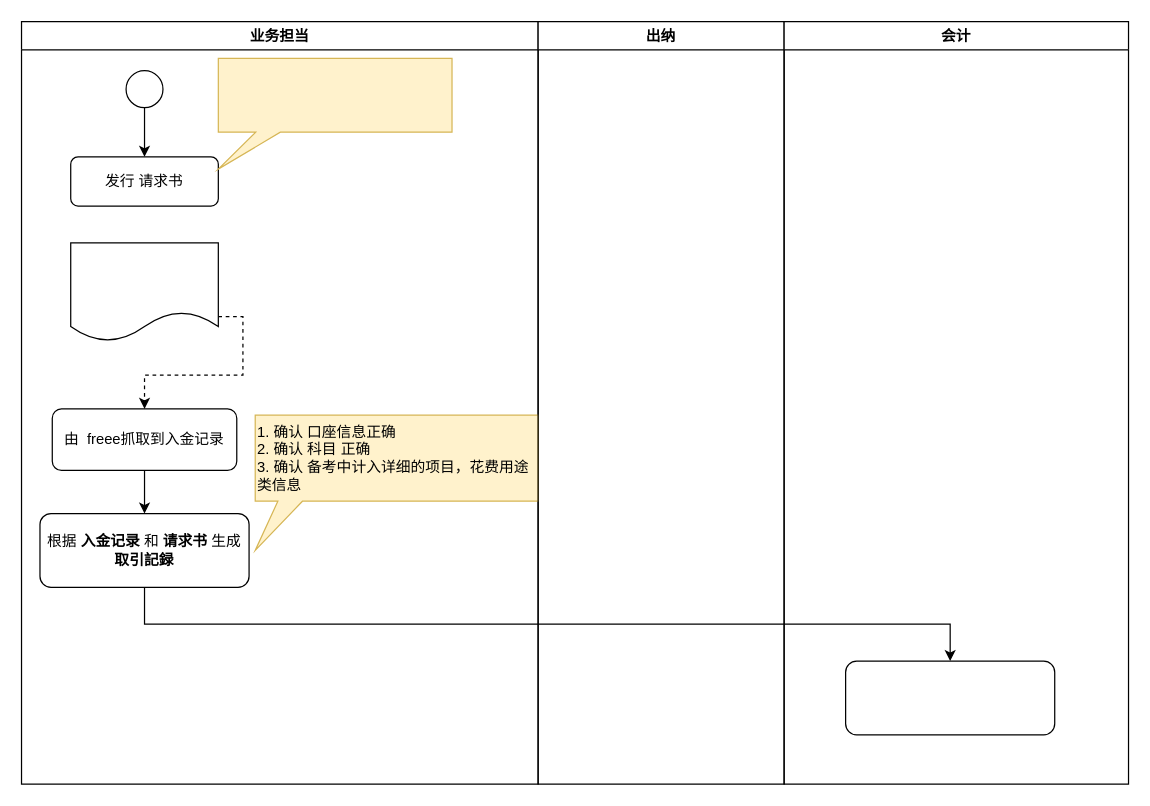
Some shapes in this 1150 by 806 pixel diagram are drawn without their labels. Here are the shapes that lost their labels. From the top down, the centre of each, then its label:
At (334,113): "需要 确认 请求书的 1.支付期限 2.备考中【由对方支付 手数料】".
At (143,291): "等待 freee 抓取到入金记录".
At (949,697): "确认后 打 确认tag".
